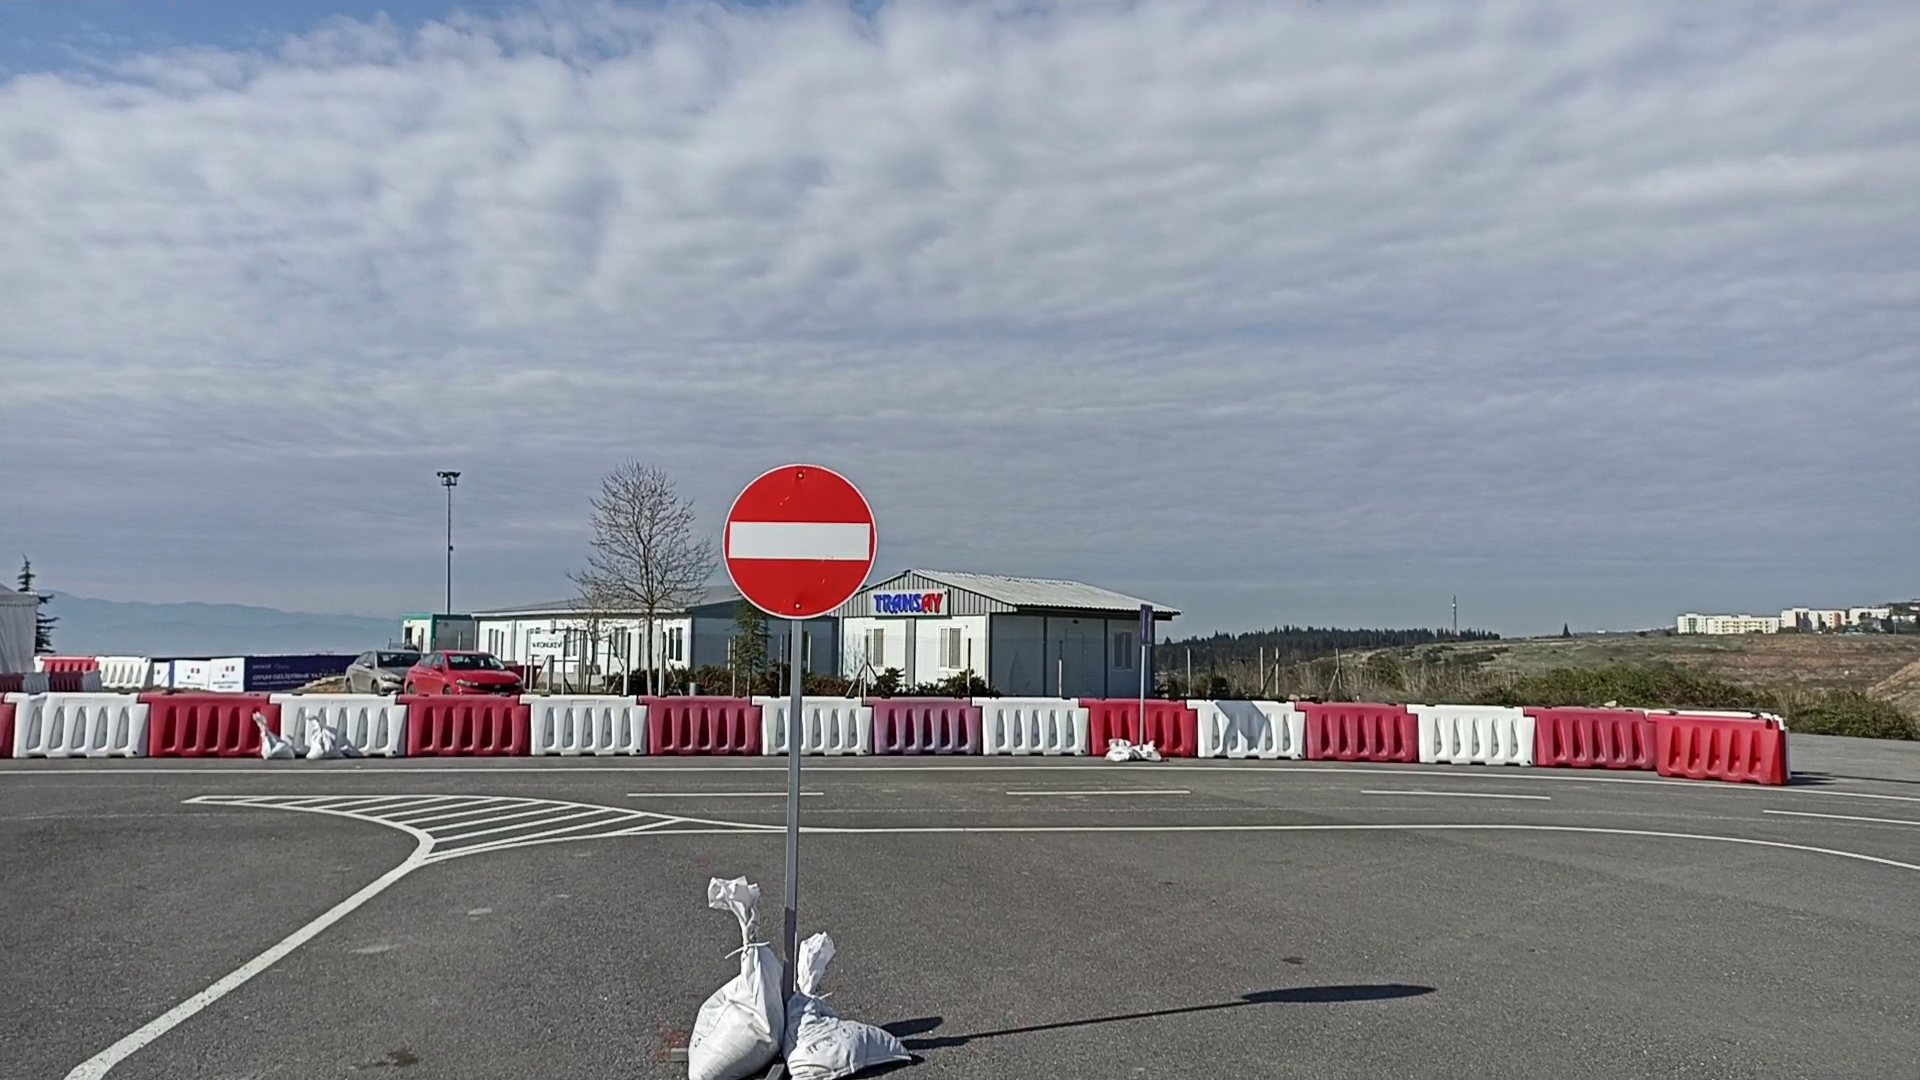noentryway: (717, 460, 884, 625)
